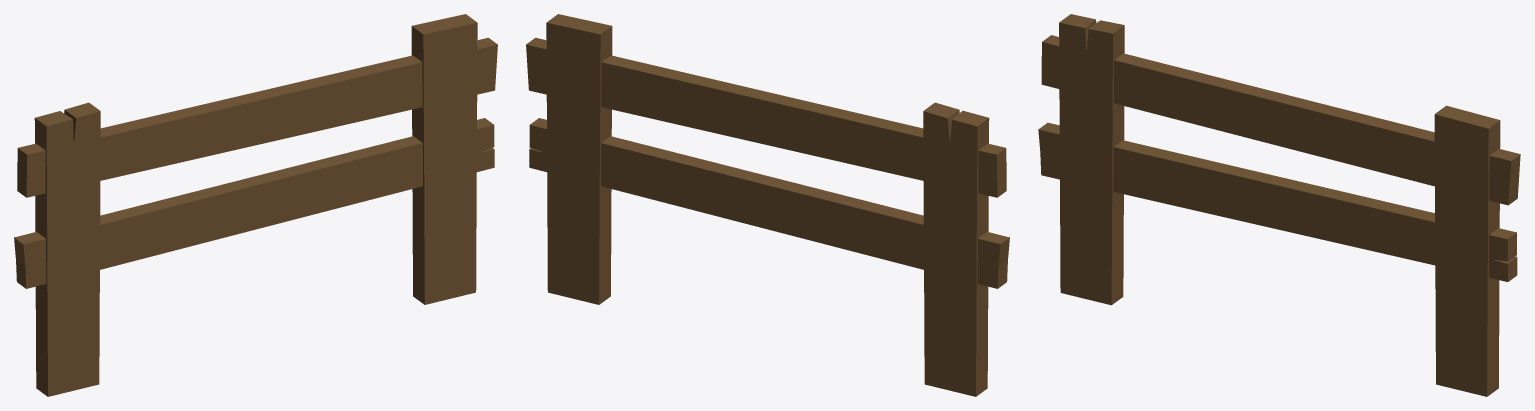
File: barrier.fbx
3 renders of one model, left to right at view 1: azimuth 30°, elevation 25°; view 2: azimuth 150°, elevation 25°; view 3: azimuth 330°, elevation 25°, orthographic.
Visible parts, largest first — view 1: Cube; view 2: Cube; view 3: Cube.
Boxes of the visible parts, x1,y1,x2,y2 form: Cube: (14,14,497,396); Cube: (526,14,1009,396); Cube: (1038,14,1520,396).
Bounding box in the file's own units: 181 × 99.75 × 7.82.
